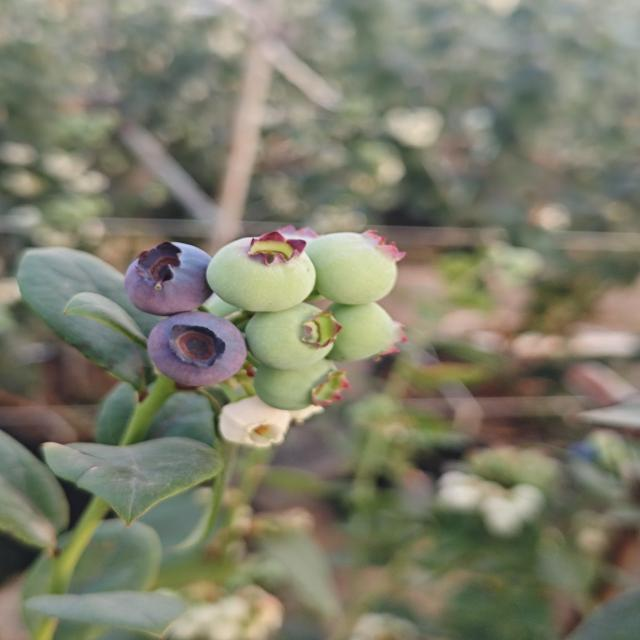ripe: (107, 240, 220, 315), (134, 314, 250, 387)
